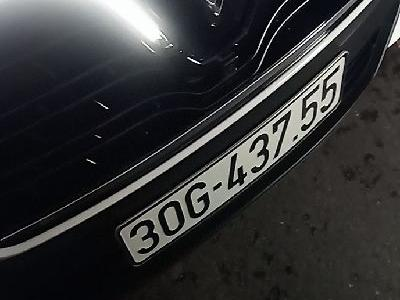lisence: (114, 50, 351, 270)
